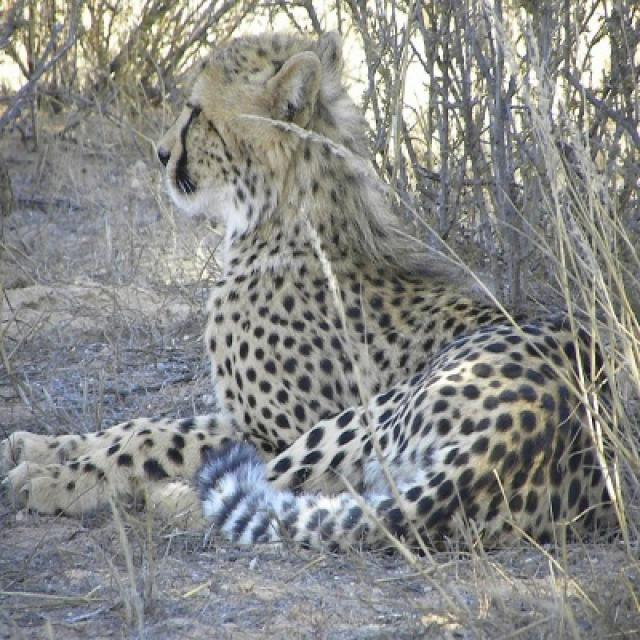Cheetah: (0, 32, 624, 554)
